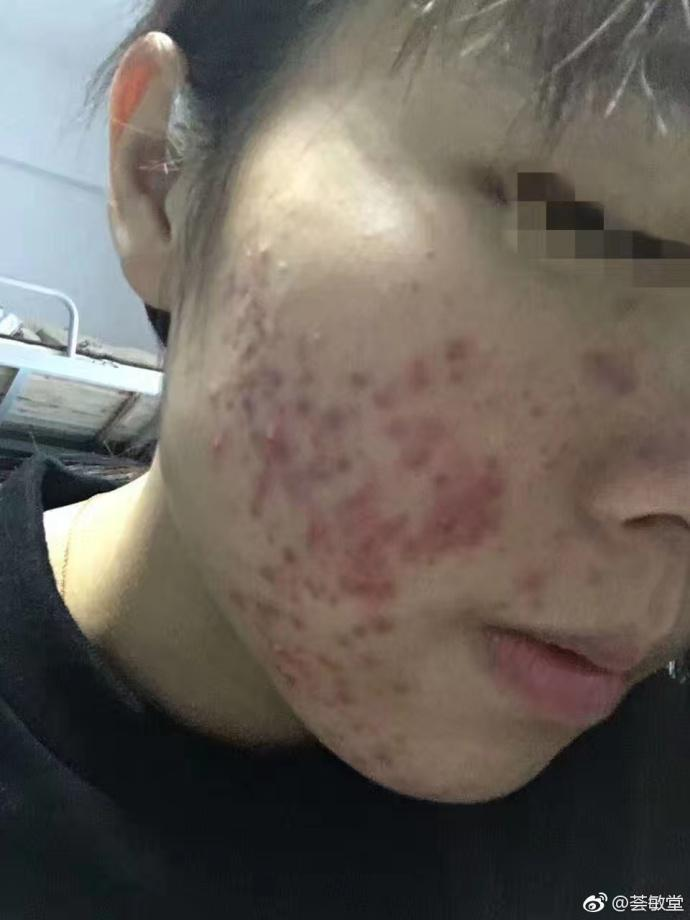fore: (598, 340, 651, 413), (235, 476, 294, 540), (243, 234, 306, 285), (439, 317, 488, 382), (550, 369, 601, 431), (341, 464, 388, 529), (467, 440, 516, 499), (276, 644, 327, 699), (353, 603, 392, 660), (255, 393, 294, 450), (251, 362, 304, 403), (331, 682, 374, 731), (526, 435, 578, 475), (250, 303, 293, 347), (513, 381, 555, 426), (321, 640, 363, 684), (328, 609, 370, 651), (227, 329, 270, 370), (398, 525, 438, 567), (406, 772, 449, 811), (296, 454, 343, 489), (192, 373, 231, 415), (381, 669, 424, 705), (227, 362, 255, 417), (261, 531, 300, 570), (502, 562, 550, 593), (300, 319, 338, 357), (274, 573, 311, 612), (431, 507, 467, 546), (372, 564, 406, 605), (339, 744, 372, 786), (296, 380, 323, 431), (414, 411, 451, 448), (382, 725, 418, 763), (341, 566, 376, 605), (341, 358, 377, 393), (366, 743, 402, 778), (425, 466, 463, 499), (288, 495, 327, 527), (398, 352, 435, 385), (461, 493, 490, 533), (365, 376, 400, 409), (327, 395, 363, 427), (308, 560, 331, 609), (245, 586, 278, 619), (398, 436, 431, 468), (225, 291, 257, 322), (365, 513, 404, 538), (221, 266, 251, 295), (349, 540, 376, 572), (198, 429, 227, 458), (221, 576, 243, 613), (274, 609, 296, 640), (257, 552, 274, 589), (382, 405, 398, 444)
